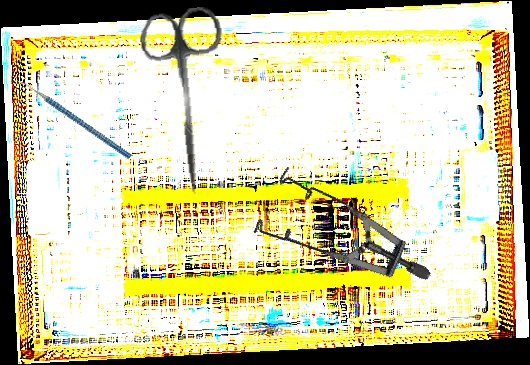Chopper: (11, 51, 133, 190)
Iris Scissors: (136, 5, 239, 198)
Speculum: (233, 132, 434, 346)
